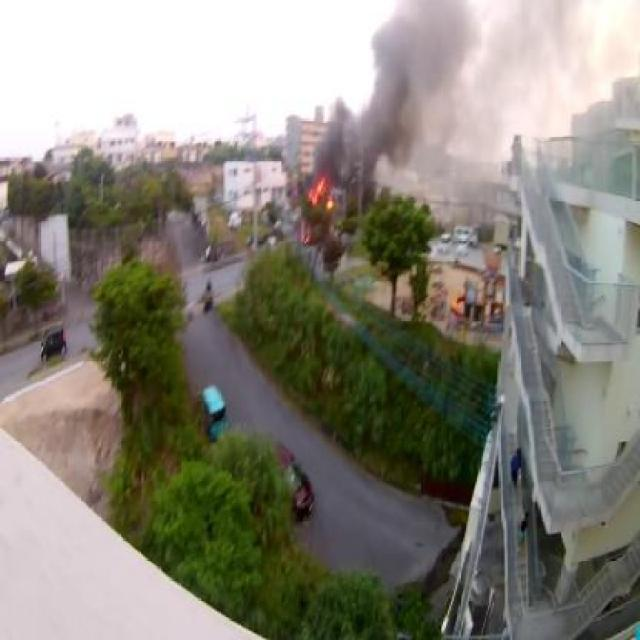Fire: (308, 178, 334, 208)
